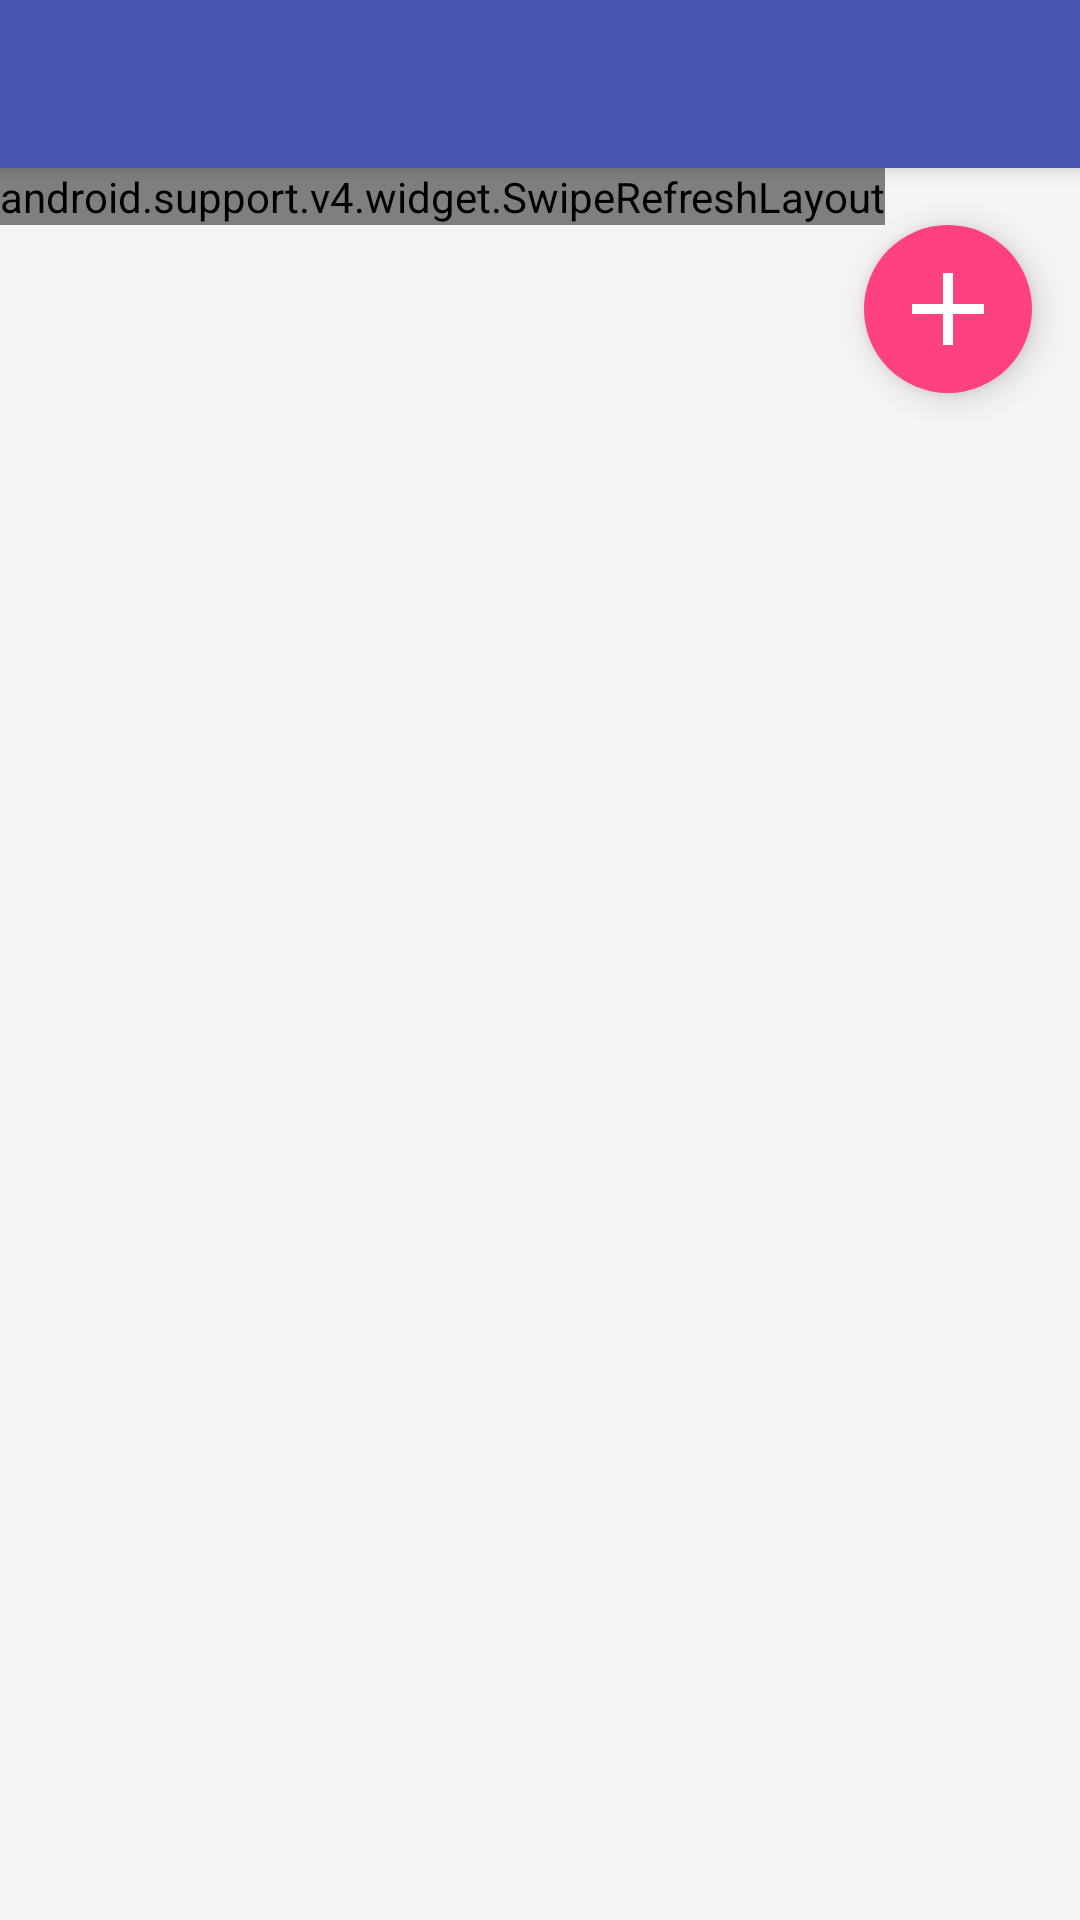

Icon click points for this 1080 x 1920 phone screenshot, format (x=x, y=y):
add: (x=948, y=309)
